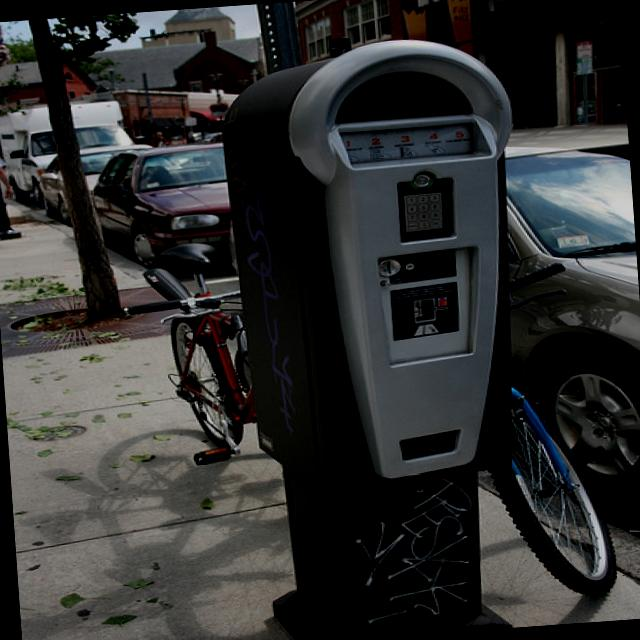Vehicle: (488, 115, 640, 528), (86, 142, 235, 272), (0, 98, 139, 205), (31, 141, 160, 228)
